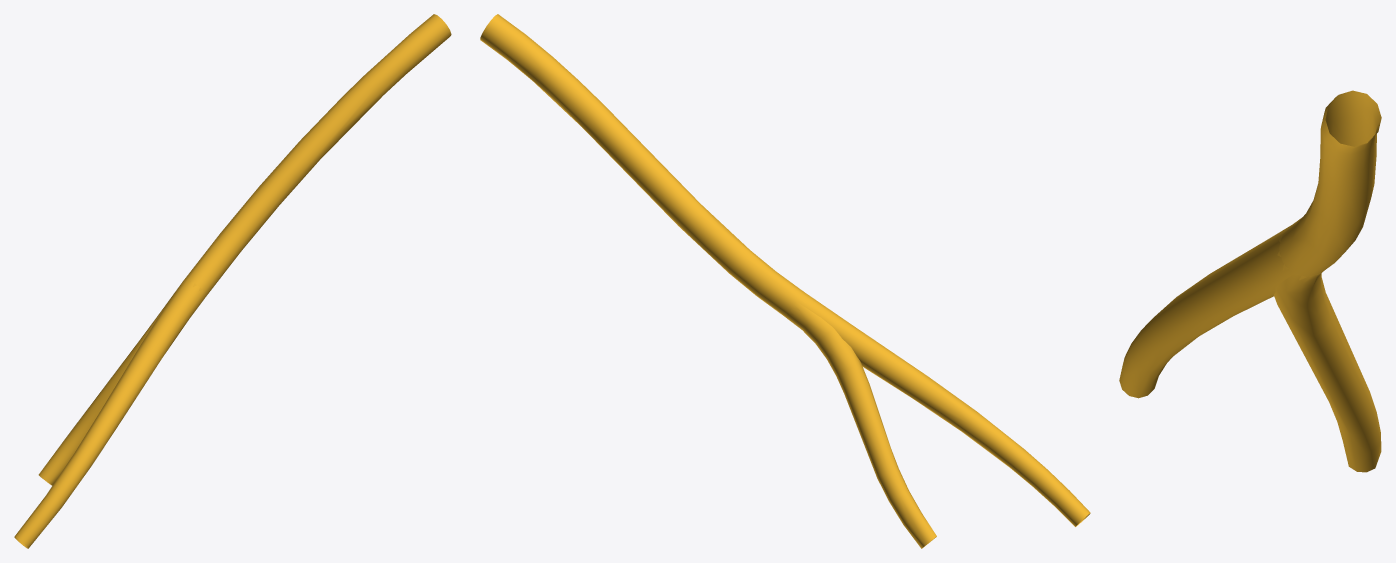
File: nervoso-middle-trunk-of-brachial-plexus-r.glb
3 views of the same model, side by side, from view 1: azimuth 30°, elevation 25°; view 2: azimuth 150°, elevation 25°; view 3: azimuth 270°, elevation 25° (orthographic). The views are drawn at different scales.
Parts seen in each view (by area): view 1: Middle trunk of brachial plexus.r, Anterior division of middle trunk of brachial plexus.r, Posterior division of middle trunk of brachial plexus.r; view 2: Middle trunk of brachial plexus.r, Anterior division of middle trunk of brachial plexus.r, Posterior division of middle trunk of brachial plexus.r; view 3: Middle trunk of brachial plexus.r, Anterior division of middle trunk of brachial plexus.r, Posterior division of middle trunk of brachial plexus.r.
Part boxes in pixels (x1,y1,x2,y2): Middle trunk of brachial plexus.r: (184, 14, 451, 296); Anterior division of middle trunk of brachial plexus.r: (14, 280, 205, 548); Posterior division of middle trunk of brachial plexus.r: (38, 279, 205, 485); Middle trunk of brachial plexus.r: (480, 14, 802, 316); Anterior division of middle trunk of brachial plexus.r: (786, 291, 1090, 526); Posterior division of middle trunk of brachial plexus.r: (785, 292, 936, 548); Middle trunk of brachial plexus.r: (1279, 90, 1381, 276); Anterior division of middle trunk of brachial plexus.r: (1119, 225, 1319, 398); Posterior division of middle trunk of brachial plexus.r: (1274, 226, 1381, 472).
Bounding box in the file's own units: 0.0596 × 0.0447 × 0.014.
